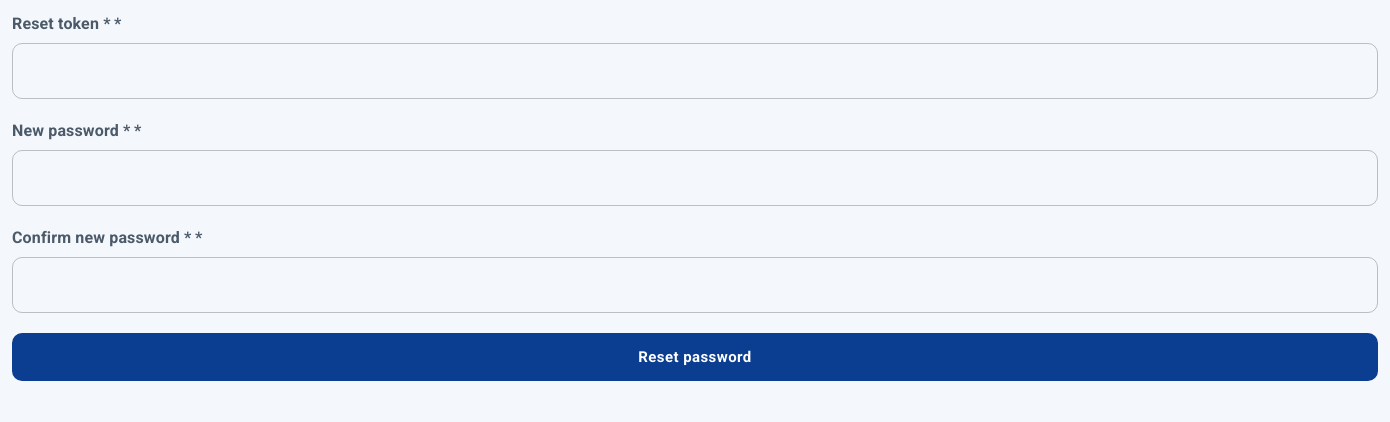
ResetPasswordForm › shows an error when the reset token is missing
Step 1. Type "Password123!" into the password field labelled "New password * *" → (695, 178), box [12, 150, 1378, 206]
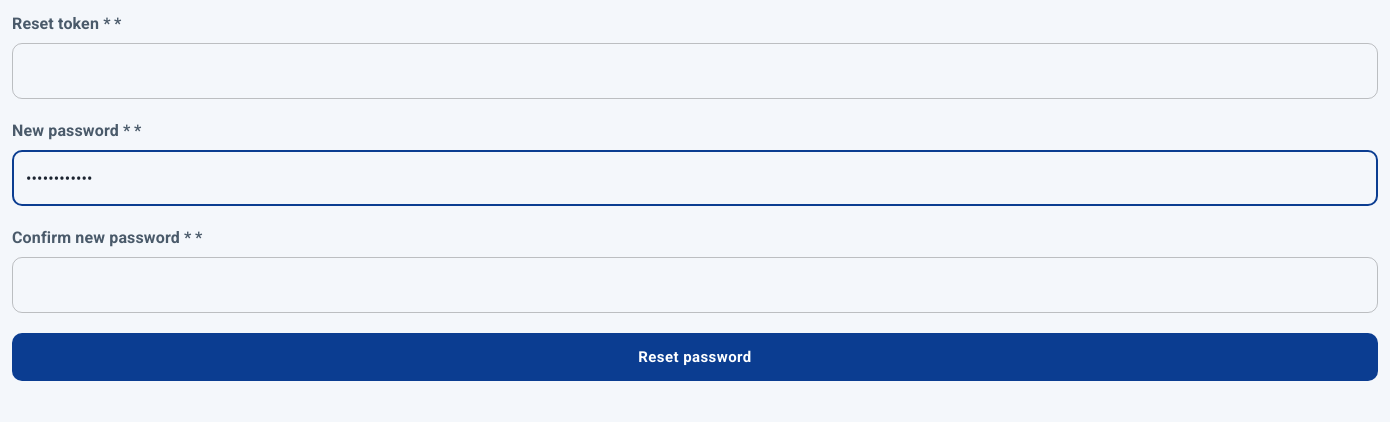
Step 2. Type "Password123!" into the password field labelled "Confirm new password * *" → (695, 285), box [12, 257, 1378, 313]
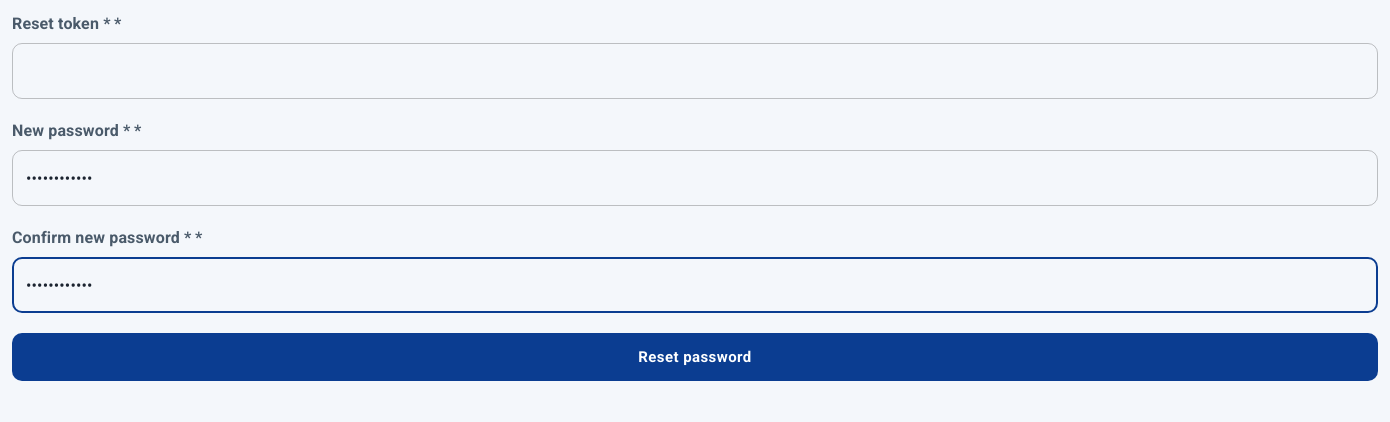
Step 3. Click the button "Reset password" → (695, 357), box [12, 333, 1378, 381]
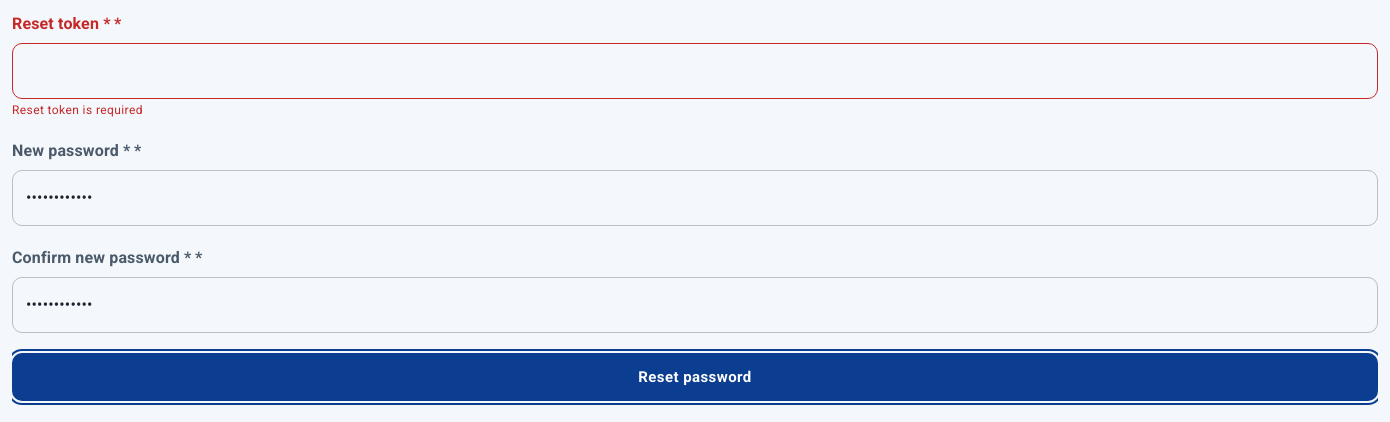
expect the text "Reset token is required" is shown: met, box [12, 103, 143, 117]
